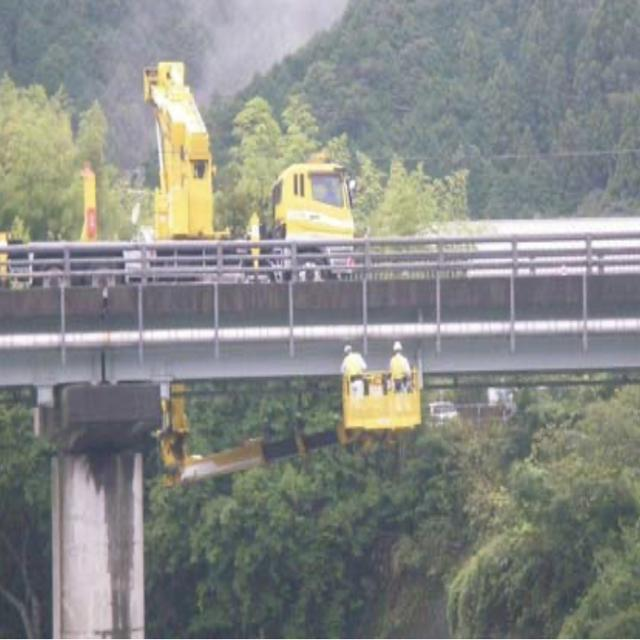leakage: (68, 376, 146, 634)
